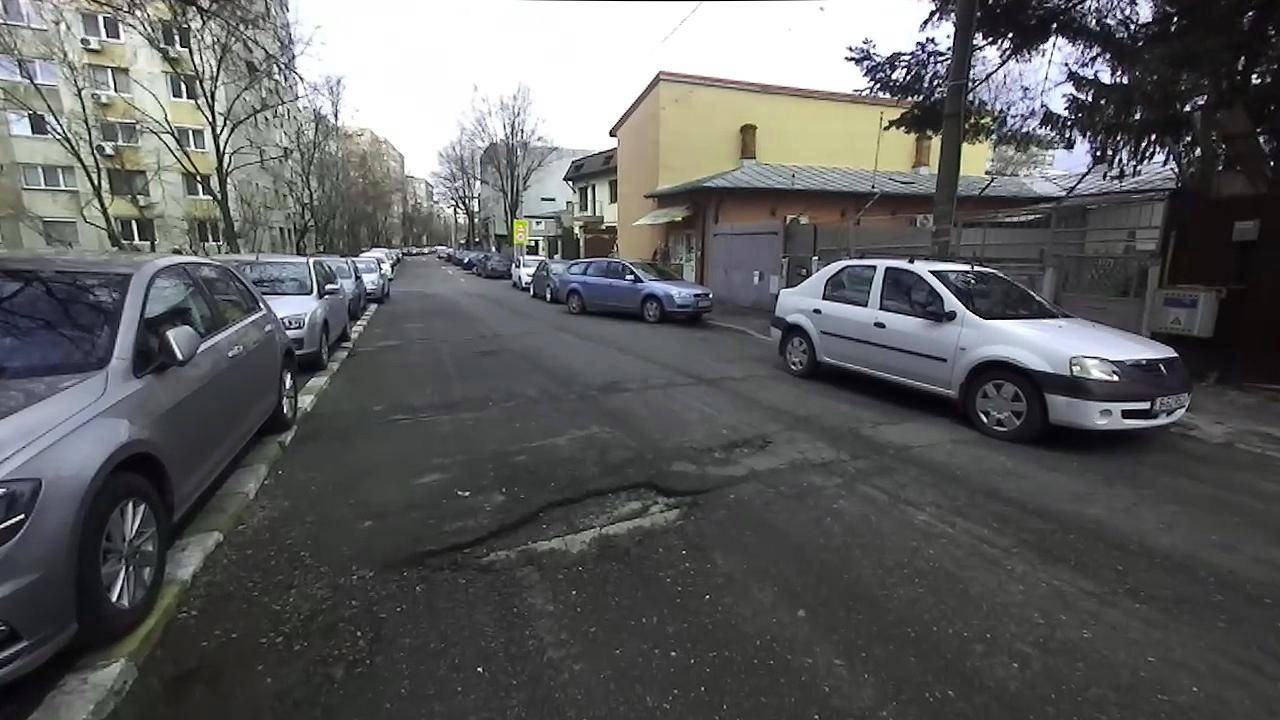pothole: (394, 474, 734, 579), (686, 427, 777, 460)
